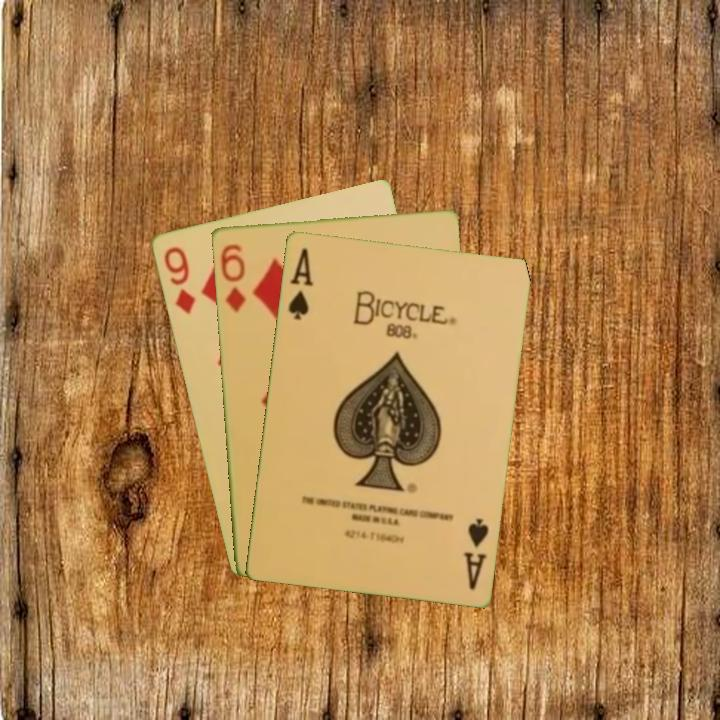6d: (216, 240, 249, 315)
9d: (159, 243, 198, 317)
As: (284, 243, 316, 323), (459, 514, 491, 592)
